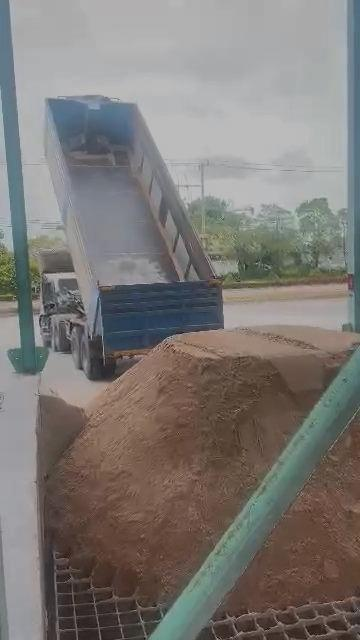sand: (48, 327, 358, 600), (228, 421, 360, 611), (38, 389, 86, 477)
